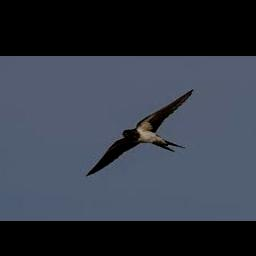Swallow: (86, 89, 195, 177)
